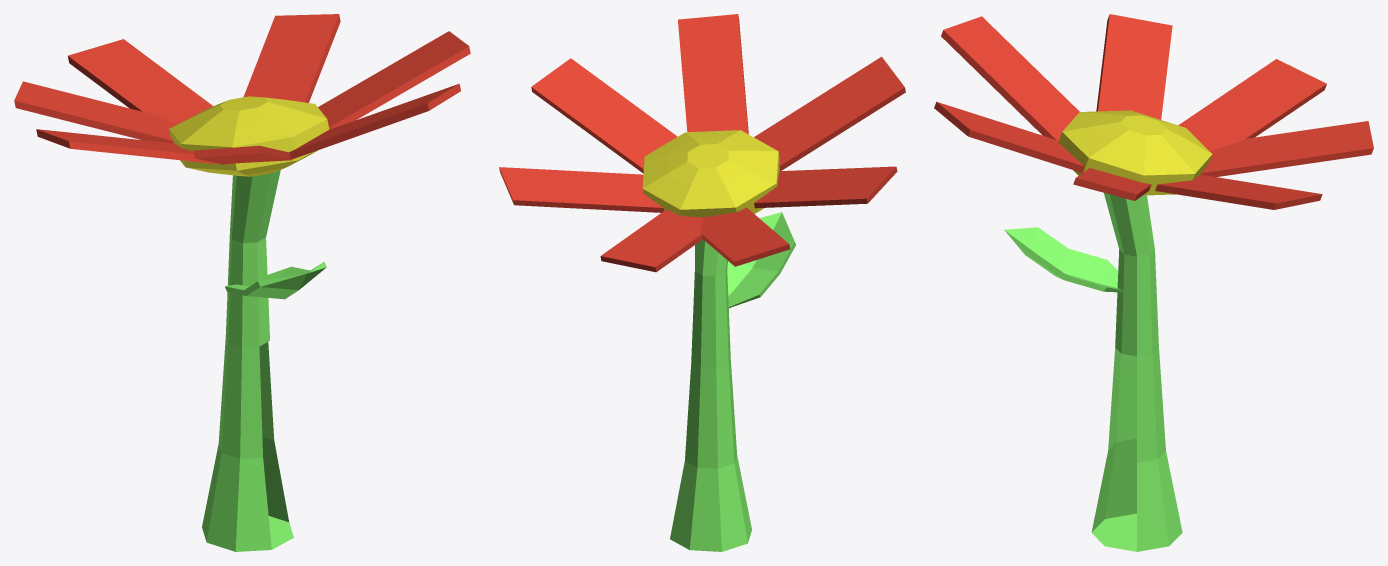
File: floroja.fbx
3 views of the same model, side by side, from view 1: azimuth 30°, elevation 25°; view 2: azimuth 150°, elevation 25°; view 3: azimuth 270°, elevation 25° (orthographic). The views are drawn at different scales.
Visible parts, largest first — view 1: Circle.001; view 2: Circle.001; view 3: Circle.001.
Boxes of the visible parts, x1,y1,x2,y2 form: Circle.001: [14, 14, 470, 551]; Circle.001: [499, 14, 905, 551]; Circle.001: [934, 14, 1373, 551].
Size of the model in its own units: 72.69 by 85.82 by 73.46.
